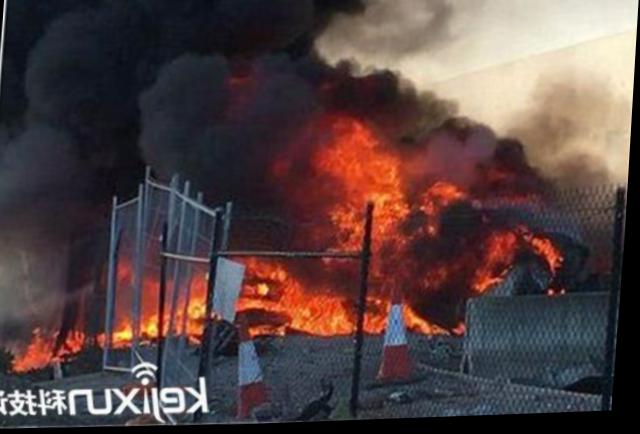fire: (319, 123, 406, 207), (294, 295, 362, 336), (476, 236, 516, 292), (331, 204, 370, 250), (376, 200, 409, 252), (24, 332, 60, 370), (194, 270, 213, 335), (283, 273, 308, 311), (369, 299, 394, 333), (413, 320, 455, 339), (251, 259, 290, 278), (178, 284, 190, 338), (68, 328, 90, 353), (244, 299, 288, 311), (550, 241, 564, 275), (146, 312, 164, 337), (120, 323, 138, 345), (257, 325, 289, 336), (169, 301, 177, 335), (258, 284, 275, 297), (409, 307, 421, 324)
